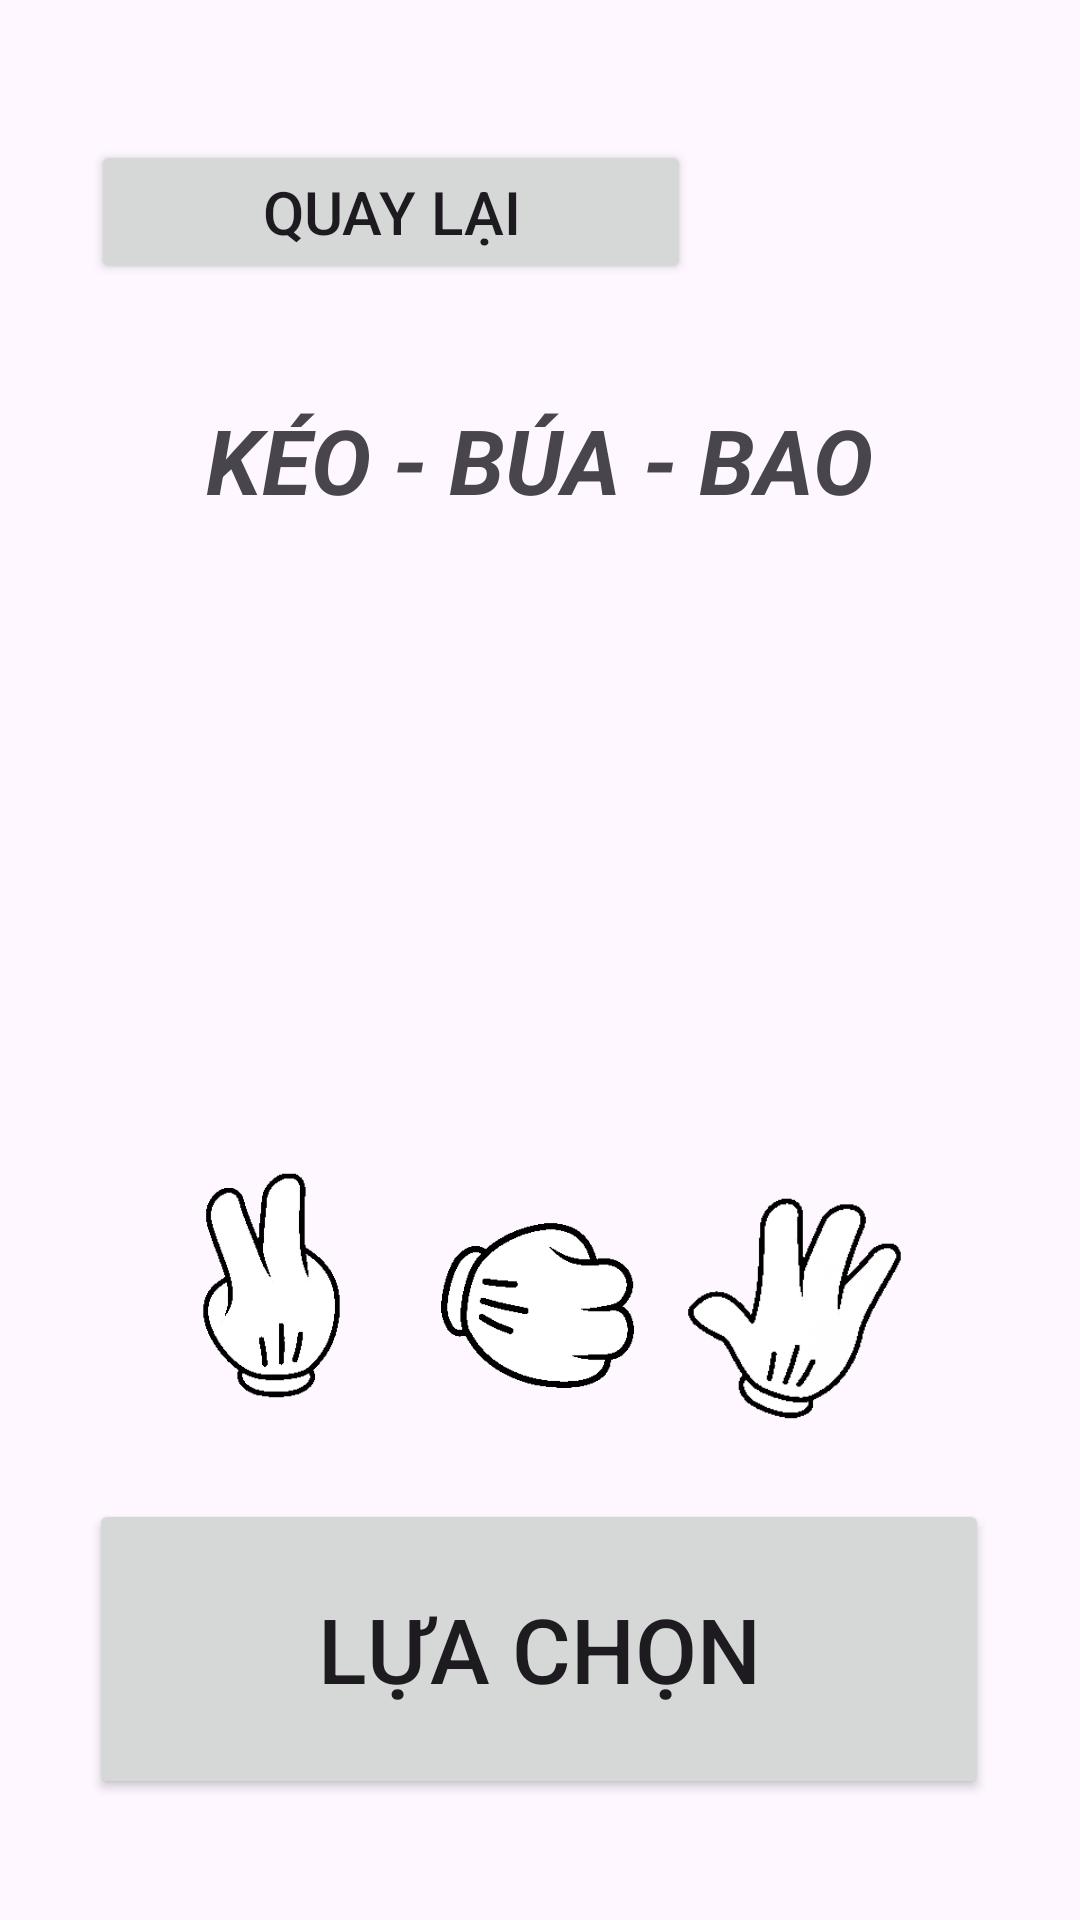

Icon bounding boxes for this 1080*1920 phone screenshot, format box=[x1, y1, x2, y2]:
keo: box=[203, 1173, 340, 1398]
